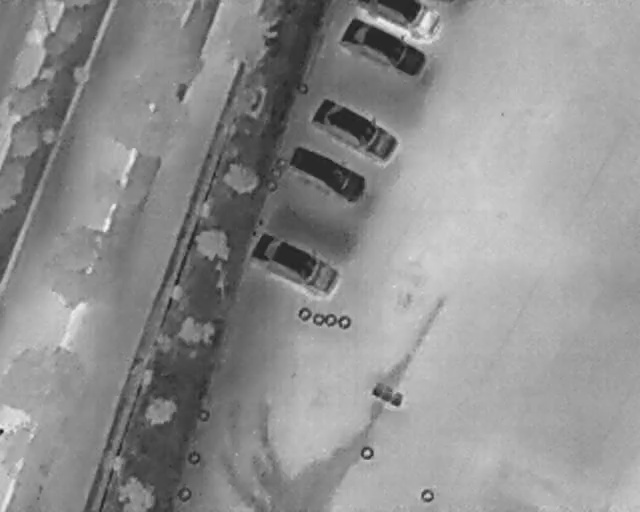Car: (300, 86, 408, 172), (239, 222, 350, 305), (272, 132, 376, 213), (332, 7, 433, 85), (352, 0, 445, 46)
